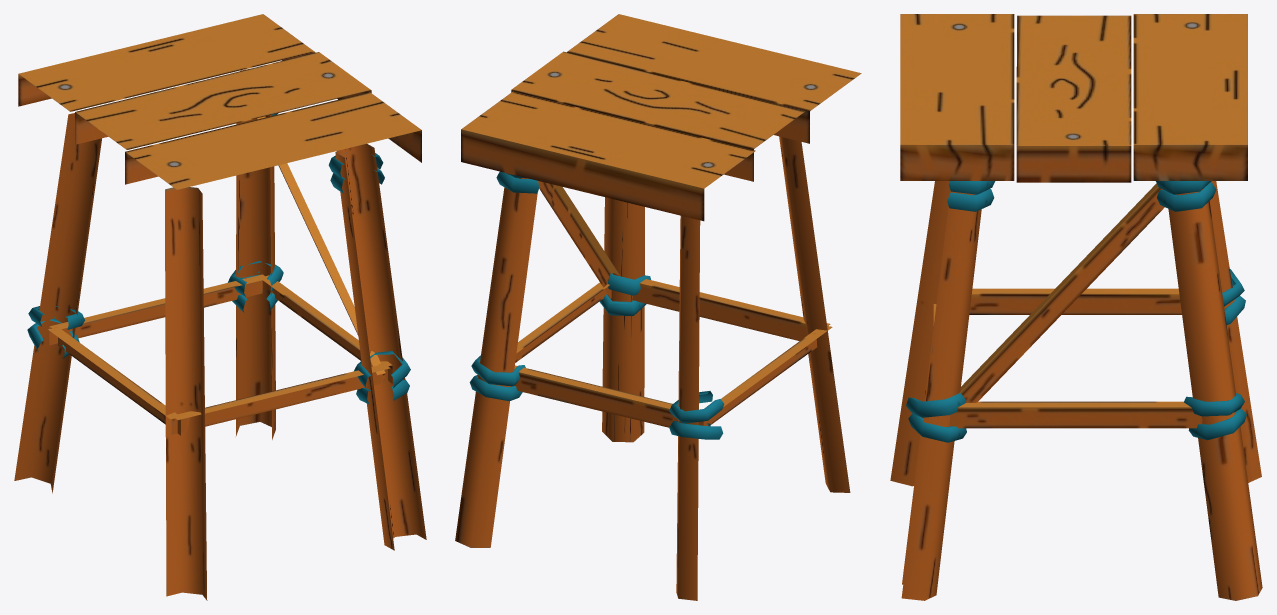
The model's file is fangyuta_001.fbx.
3 renders of one model, left to right at view 1: azimuth 30°, elevation 25°; view 2: azimuth 150°, elevation 25°; view 3: azimuth 270°, elevation 25°, orthographic. The views are drawn at different scales.
Parts seen in each view (by area): view 1: fangyuta_001; view 2: fangyuta_001; view 3: fangyuta_001.
Boxes of the visible parts, box(x1,y1,x2,y2) form: fangyuta_001: box(14, 14, 426, 600); fangyuta_001: box(455, 14, 861, 600); fangyuta_001: box(890, 14, 1262, 600).
Size of the model in its own units: 317 by 501 by 370.
